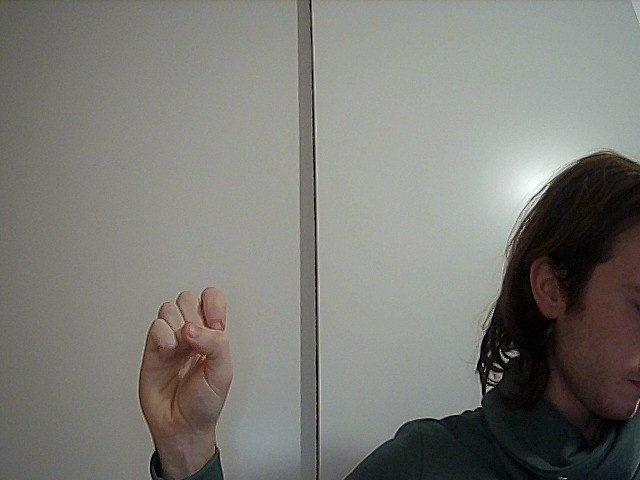s: (127, 277, 248, 449)
